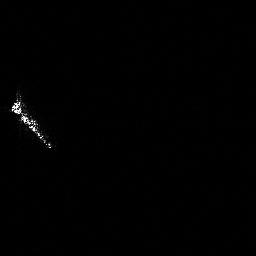ship: (8, 90, 56, 151)
